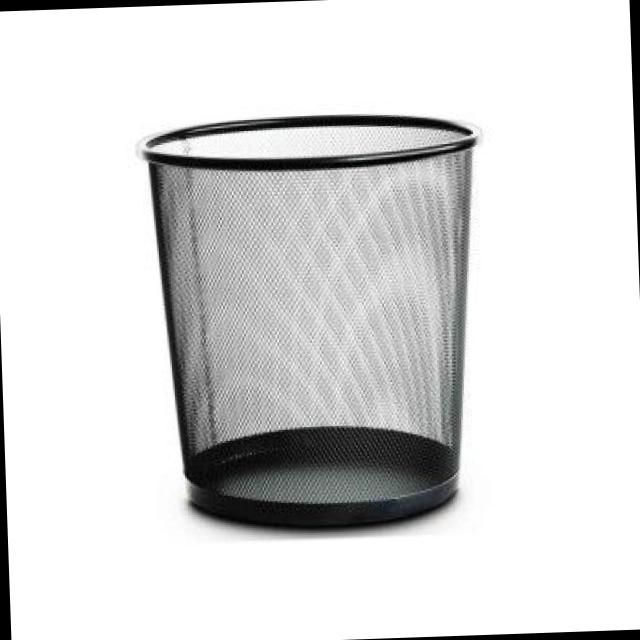dustbin: (130, 102, 503, 545)
